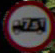Heavy Vehicles: (4, 1, 48, 42)
